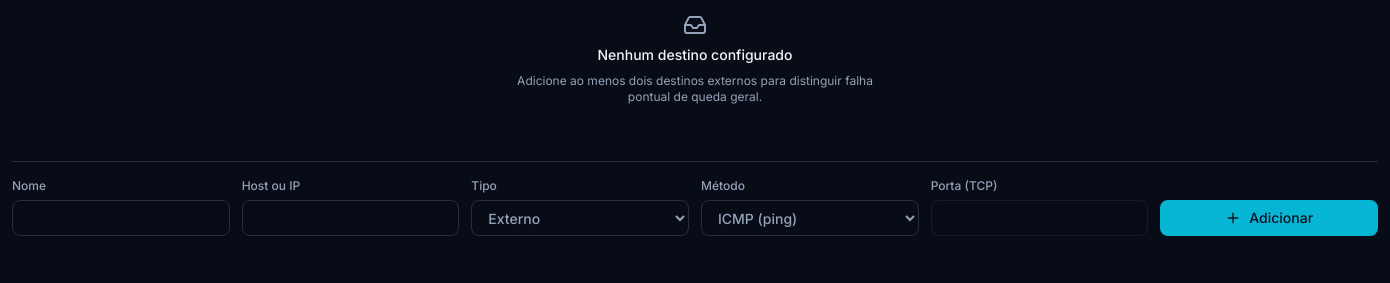
Test case: TargetsPanel › exibe o erro de validação do servidor (ex.: SSRF)
Type "x" into the field labelled "Nome" at [121, 218], box x1=12 y1=200 x2=230 y2=236
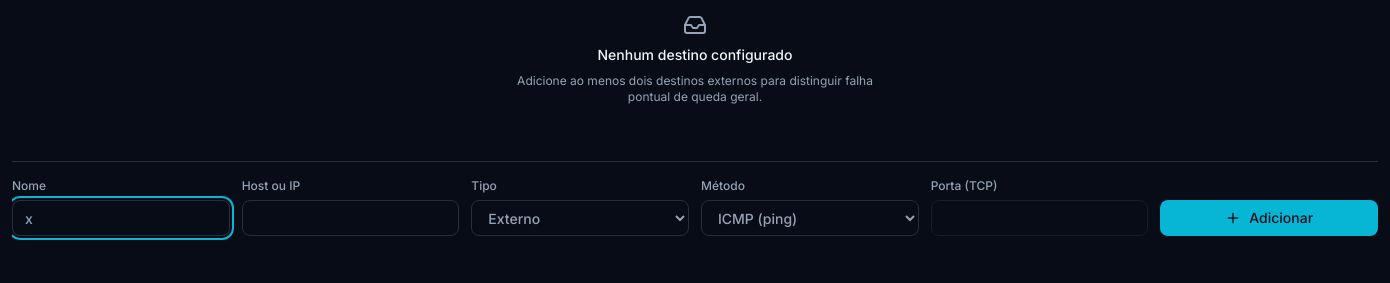
Type "169.254.169.254" into the field labelled "Host ou IP" at [351, 218], box x1=242 y1=200 x2=459 y2=236
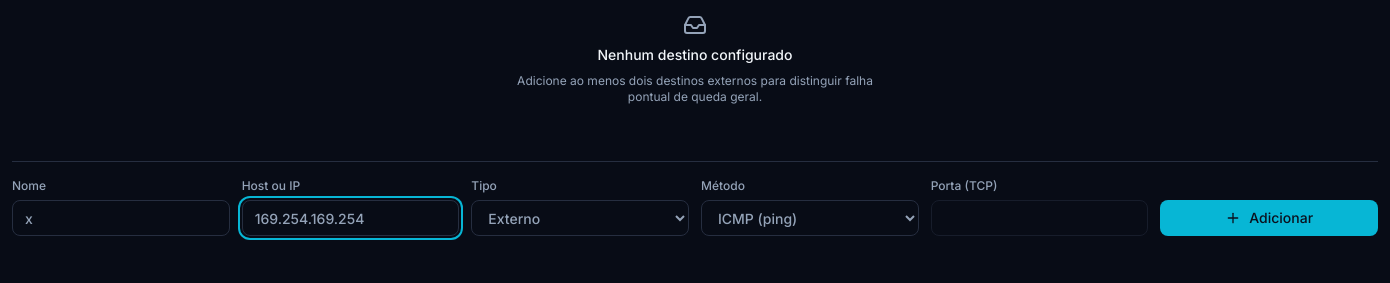
Click the button "Adicionar" at [1269, 218], box x1=1160 y1=200 x2=1378 y2=236
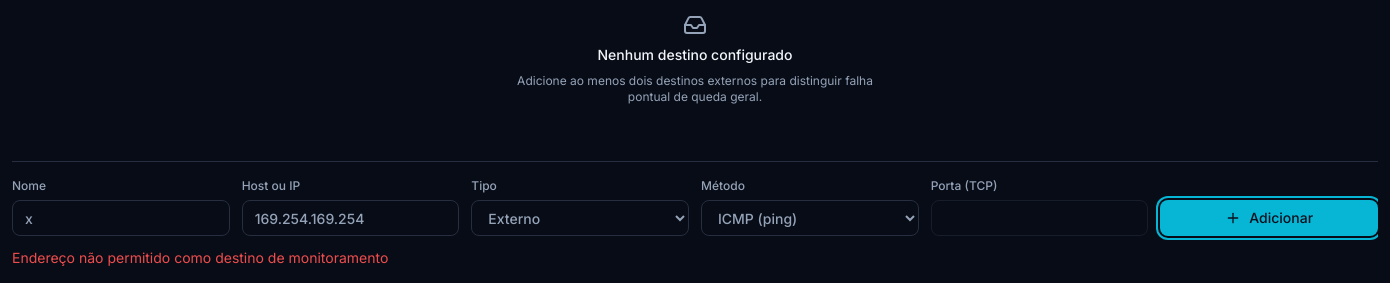
Expected: the message shows "Endereço não permitido", x1=12 y1=249 x2=388 y2=266
